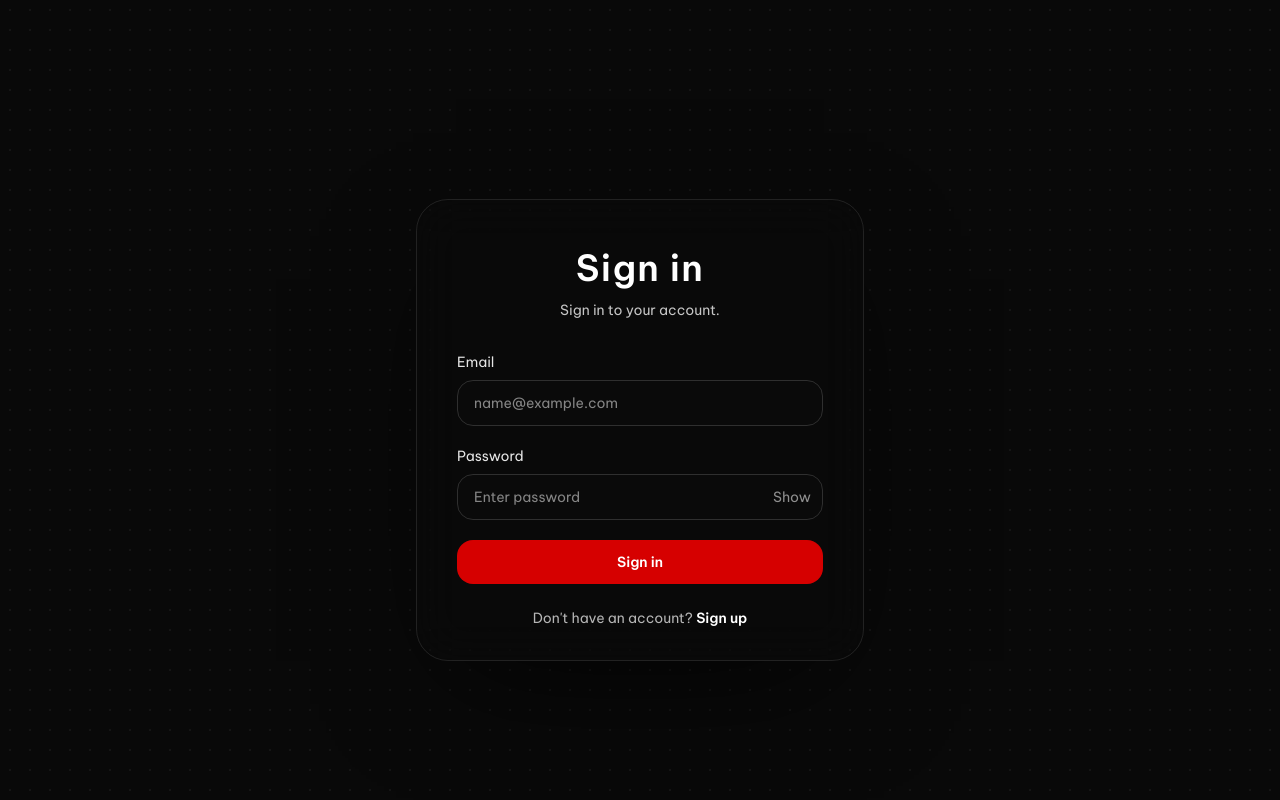
it: LoginPage › validates email format and password length
Type "invalid-email" into the field with placeholder "name@example.com" at (640, 403), box [457,380,823,426]
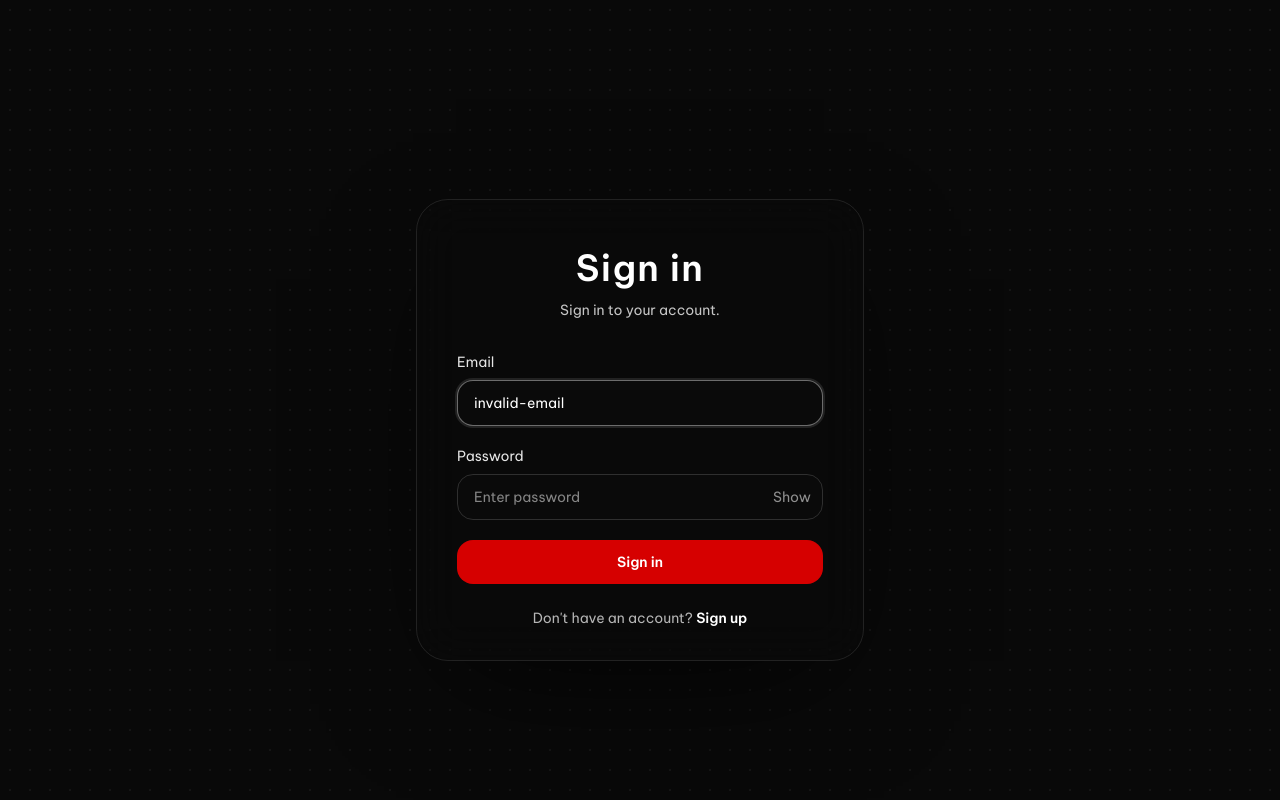
Type "short" into the password field with placeholder "Enter password" at (640, 497), box [457,474,823,520]
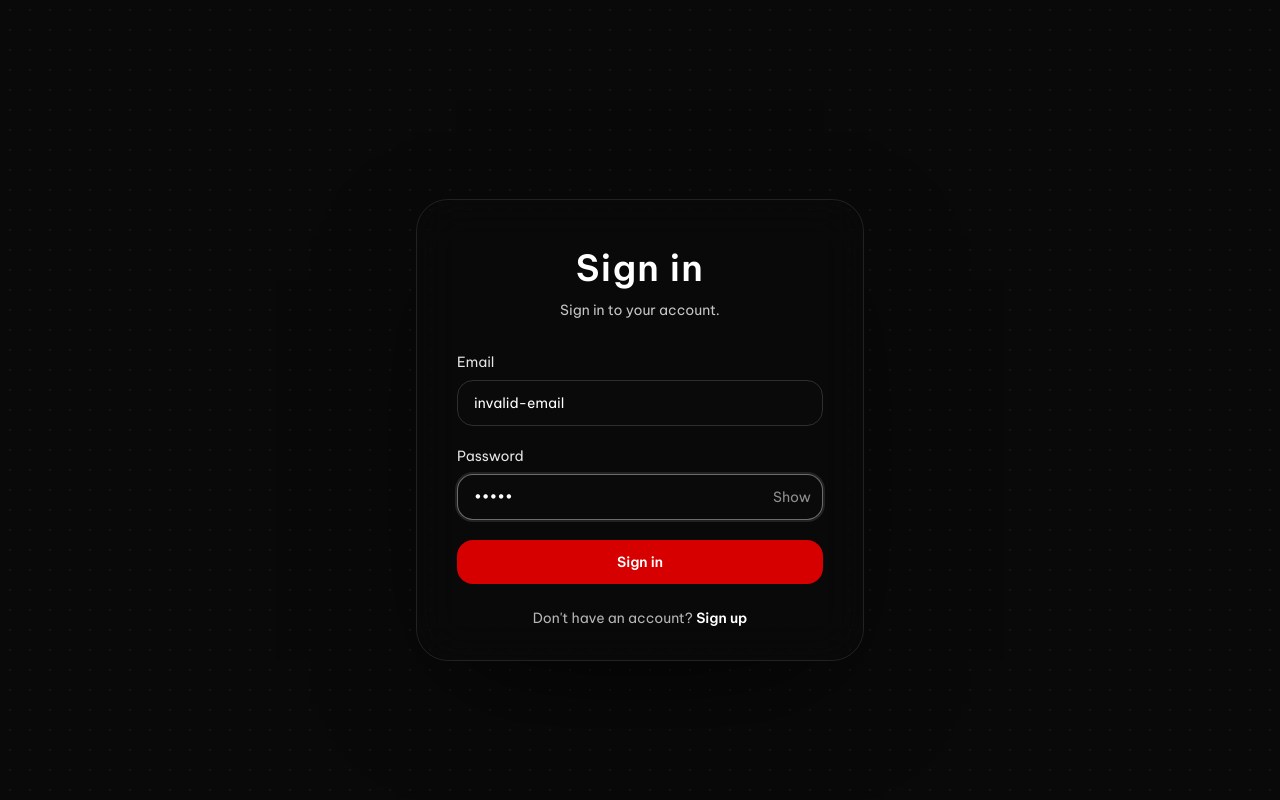
Click the button "Sign in" at (640, 562), box [457,540,823,584]
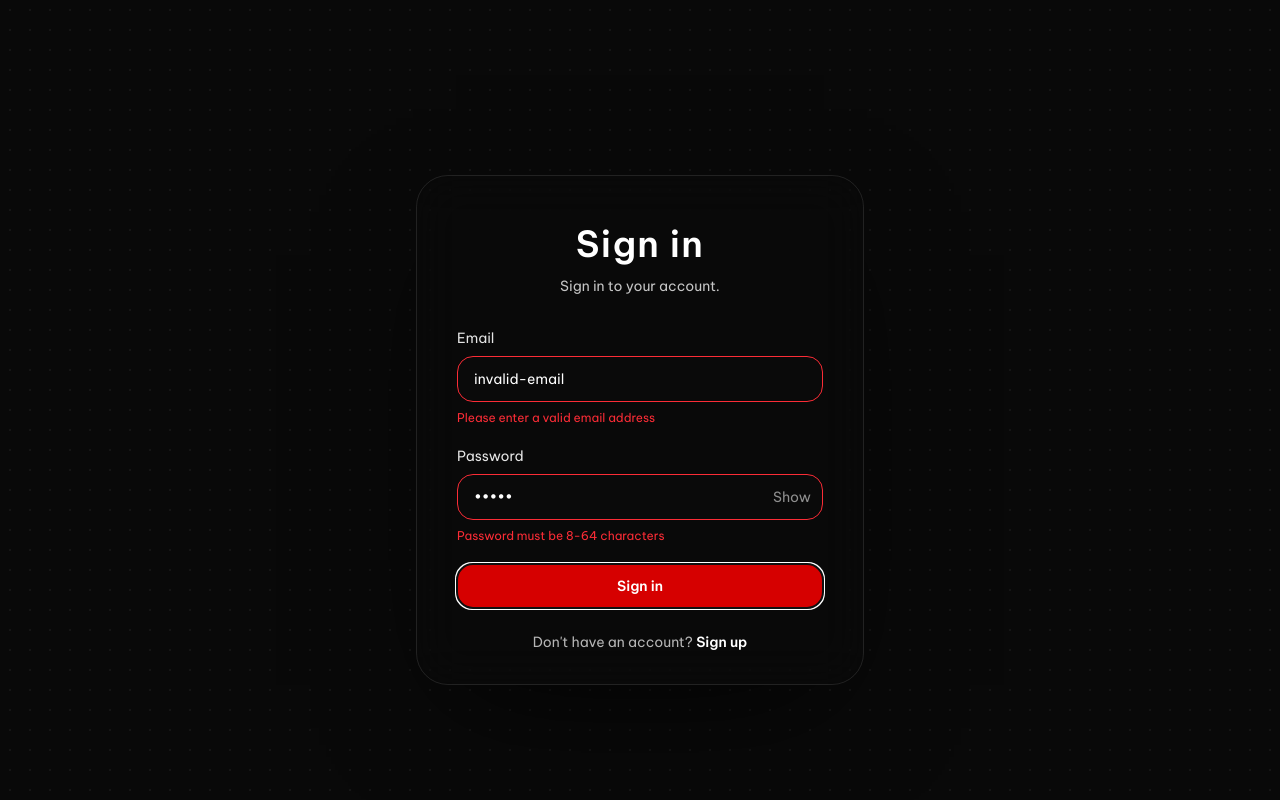
expect the text "Please enter a valid email address" is shown: met, box [457,410,655,425]
expect the text "Password must be 8-64 characters" is shown: met, box [457,528,664,543]
